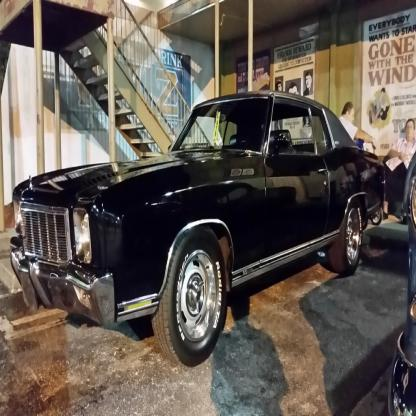Car: (8, 90, 386, 371), (390, 148, 416, 415)
